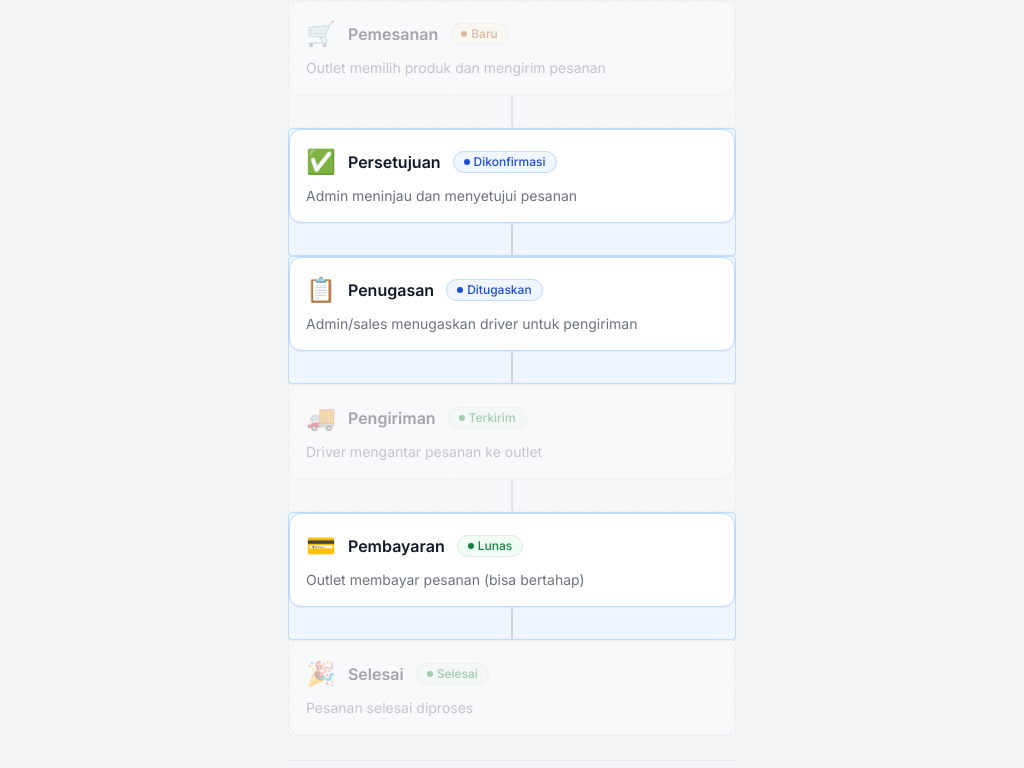
Test case: WorktreeFlow — panel detail on click › shows panel detail when admin clicks Persetujuan
Note: Click Persetujuan node
Step 1. Click the element with test id "worktree-node-approval" → (394, 162), box [306,147,577,204]
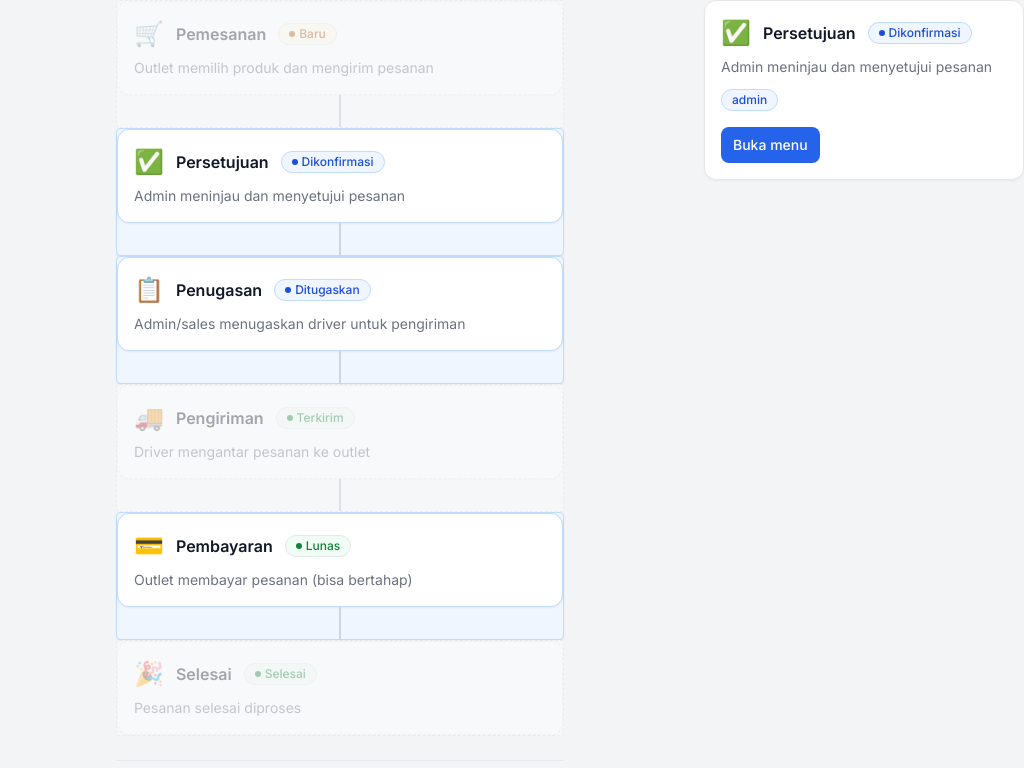
expect the element with test id "worktree-panel" is shown: met, box [704,0,1023,180]
expect the element with test id "worktree-panel" shows "meninjau dan menyetujui": met, box [721,58,992,75]
expect the element with test id "worktree-panel" shows "Dikonfirmasi": met, box [889,25,961,40]
